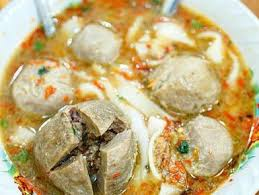bakso: (17, 25, 226, 185)
